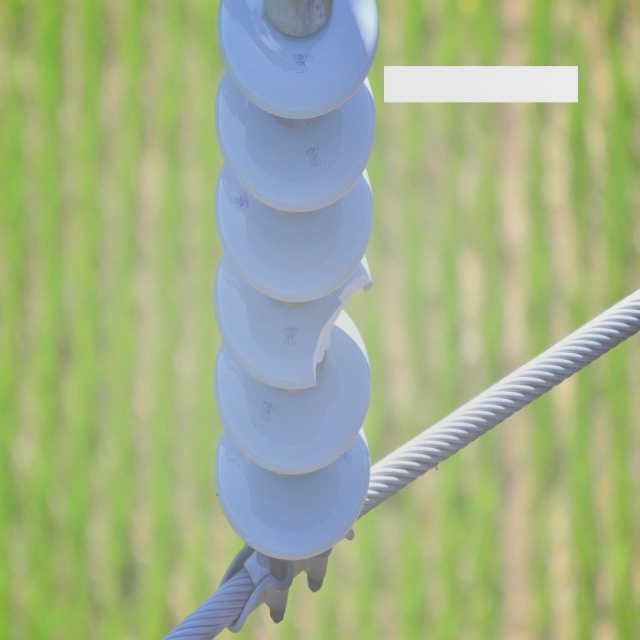broken: (296, 262, 376, 391)
insulator: (214, 0, 380, 558)
